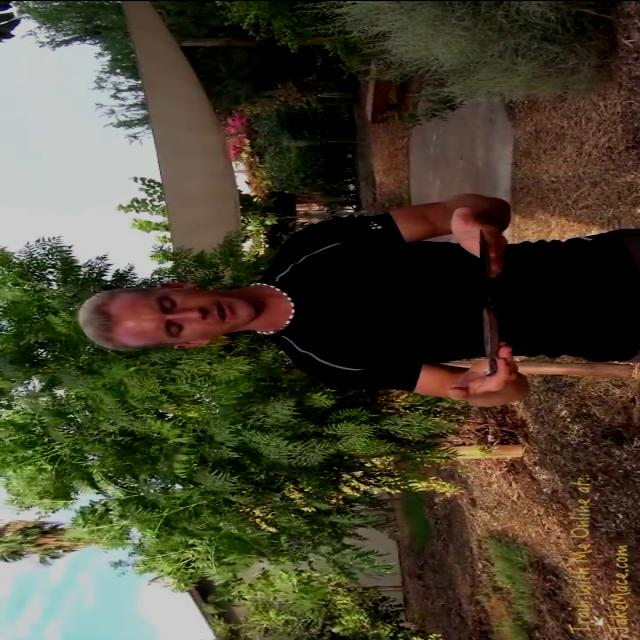knife: (467, 218, 512, 380)
